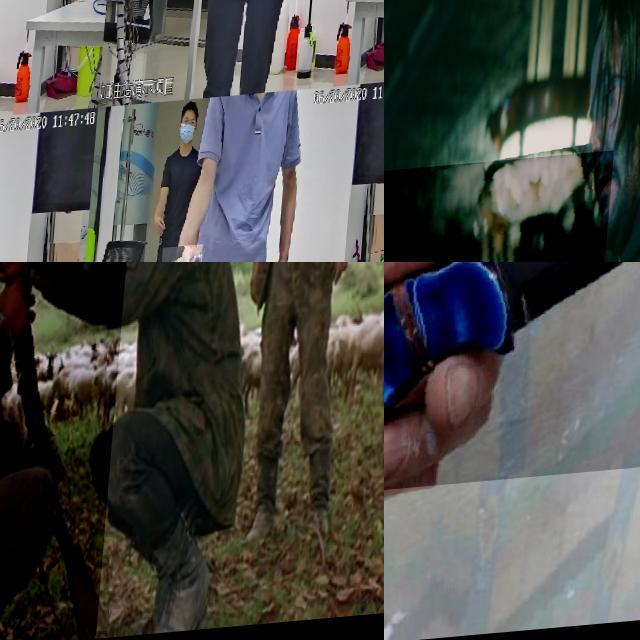-: (384, 262, 640, 498)
gun-knife-thesis - v11 Yolov5 augmented: (0, 262, 141, 640), (384, 159, 618, 262), (208, 0, 250, 35), (0, 214, 29, 262), (0, 0, 18, 34)
